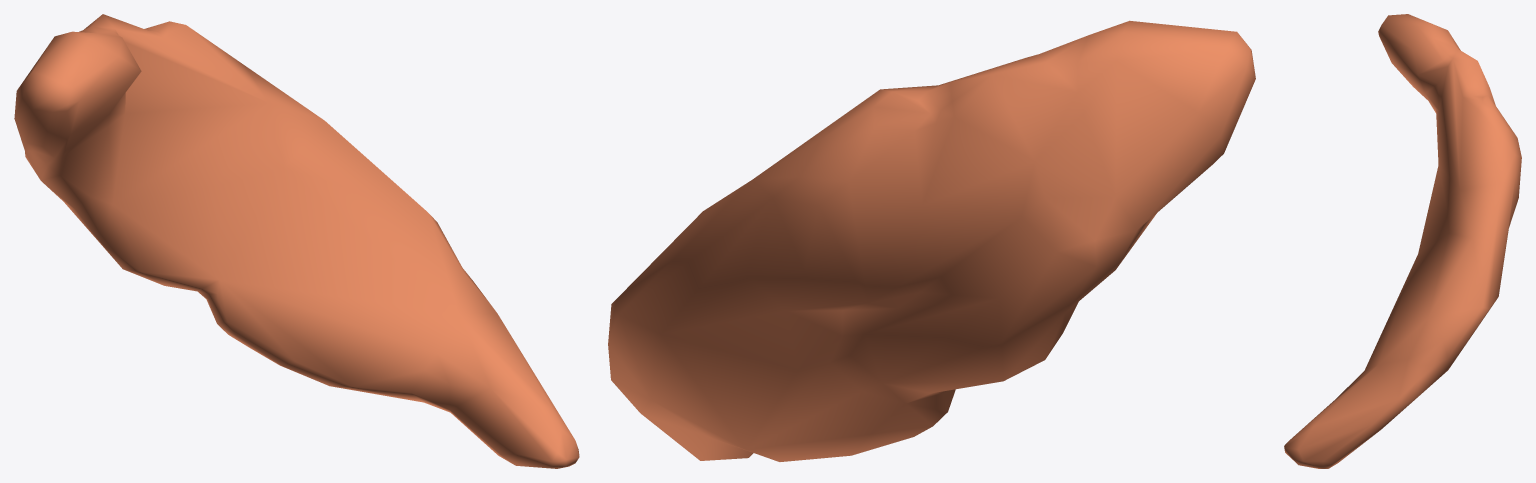
File: Seminal_gland_right.glb
3 views of the same model, side by side, from view 1: azimuth 30°, elevation 25°; view 2: azimuth 150°, elevation 25°; view 3: azimuth 270°, elevation 25° (orthographic). The views are drawn at different scales.
Visible parts, largest first — view 1: Seminal_gland.r_Generated_Mesh_From_X3D.124; view 2: Seminal_gland.r_Generated_Mesh_From_X3D.124; view 3: Seminal_gland.r_Generated_Mesh_From_X3D.124.
Part boxes in pixels (x1,y1,x2,y2): Seminal_gland.r_Generated_Mesh_From_X3D.124: [14, 14, 579, 468]; Seminal_gland.r_Generated_Mesh_From_X3D.124: [608, 20, 1255, 461]; Seminal_gland.r_Generated_Mesh_From_X3D.124: [1284, 14, 1521, 468].
Size of the model in its own units: 0.0329 by 0.0306 by 0.021.
